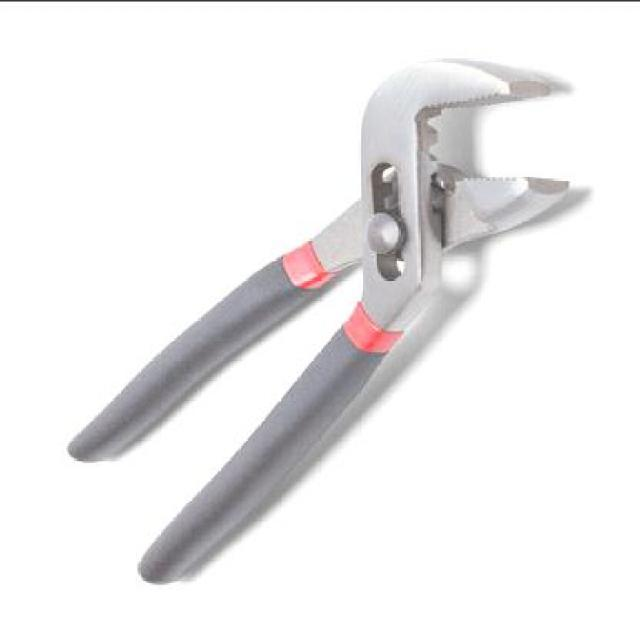pliers: (64, 57, 578, 585)
